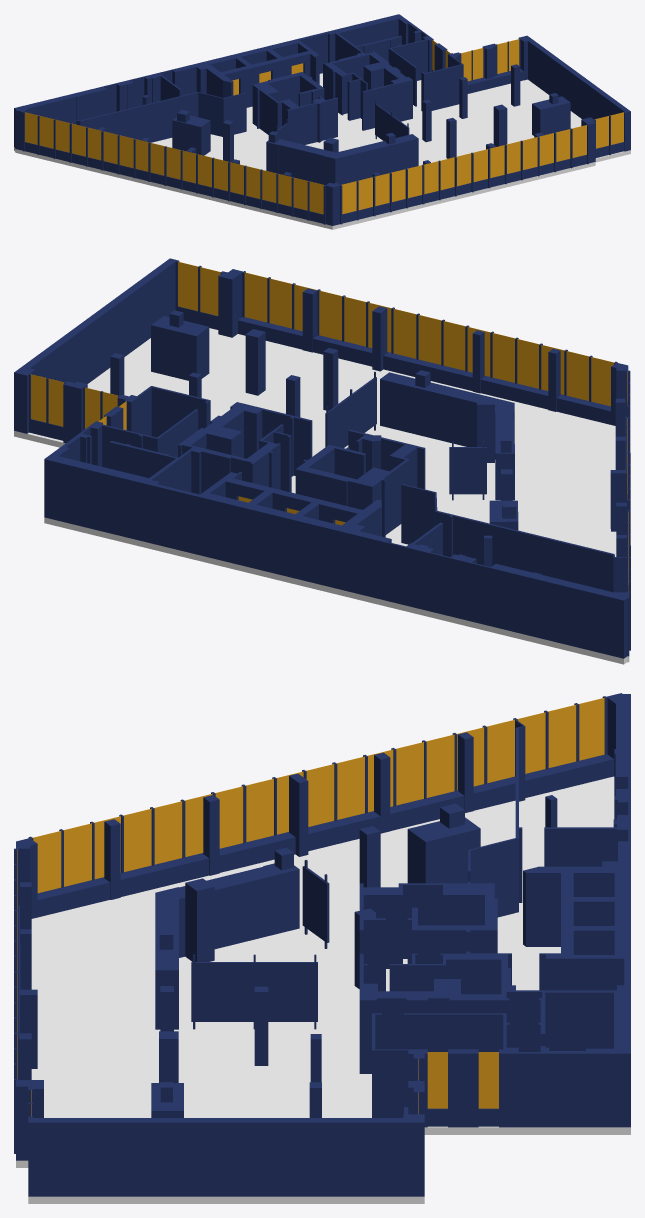
Rendered from 1855B 5th Floor.fbx.
3 views of the same model, one above another, from view 1: azimuth 30°, elevation 25°; view 2: azimuth 150°, elevation 25°; view 3: azimuth 270°, elevation 25° (orthographic). The views are drawn at different scales.
Visible parts, largest first — view 1: Walls, Interior Member, Object_2; view 2: Walls, Object_2, Interior Member; view 3: Walls, Object_2, Interior Member.
Boxes of the visible parts, x1=… form: Walls: x1=14, y1=14, x2=630, y2=225; Interior Member: x1=25, y1=39, x2=623, y2=214; Object_2: x1=14, y1=73, x2=630, y2=229; Walls: x1=14, y1=258, x2=630, y2=658; Object_2: x1=14, y1=328, x2=629, y2=664; Interior Member: x1=31, y1=261, x2=628, y2=591; Walls: x1=14, y1=693, x2=630, y2=1196; Object_2: x1=16, y1=776, x2=630, y2=1203; Interior Member: x1=17, y1=698, x2=604, y2=1116.
Size of the model in its own units: 1495 by 908 by 132.
